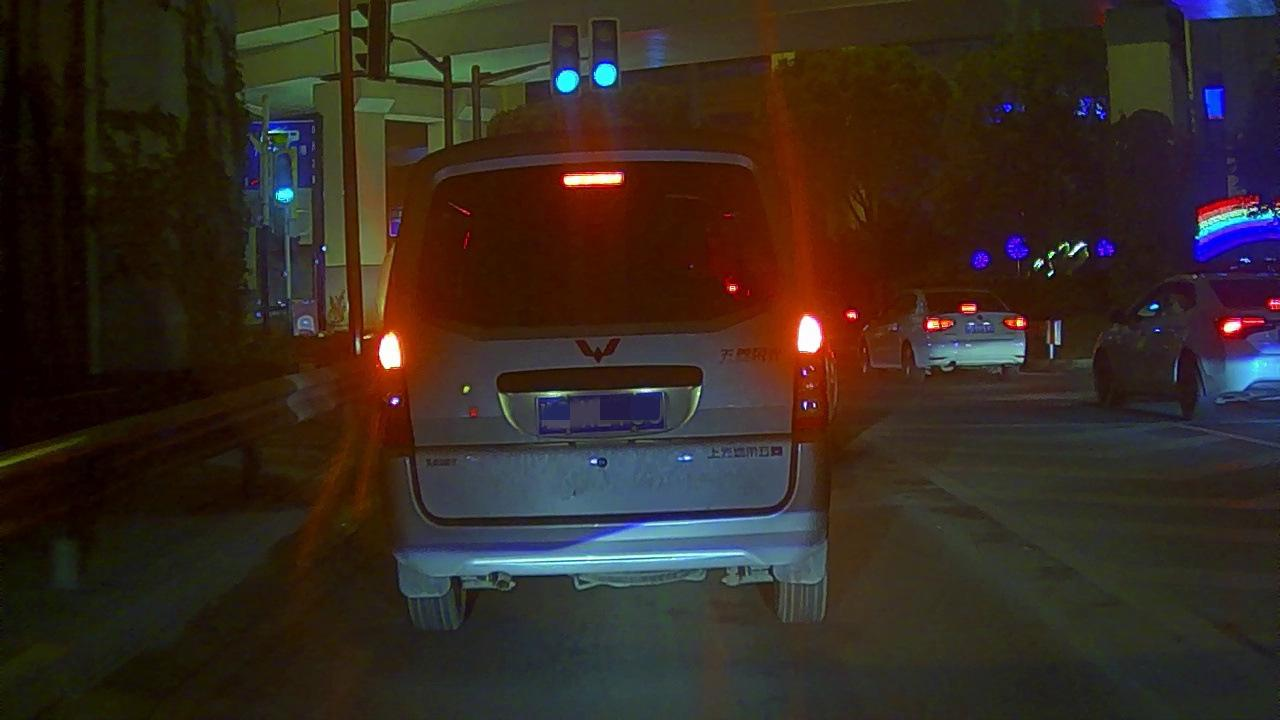traffic_light: (590, 18, 618, 87), (554, 25, 576, 95)
